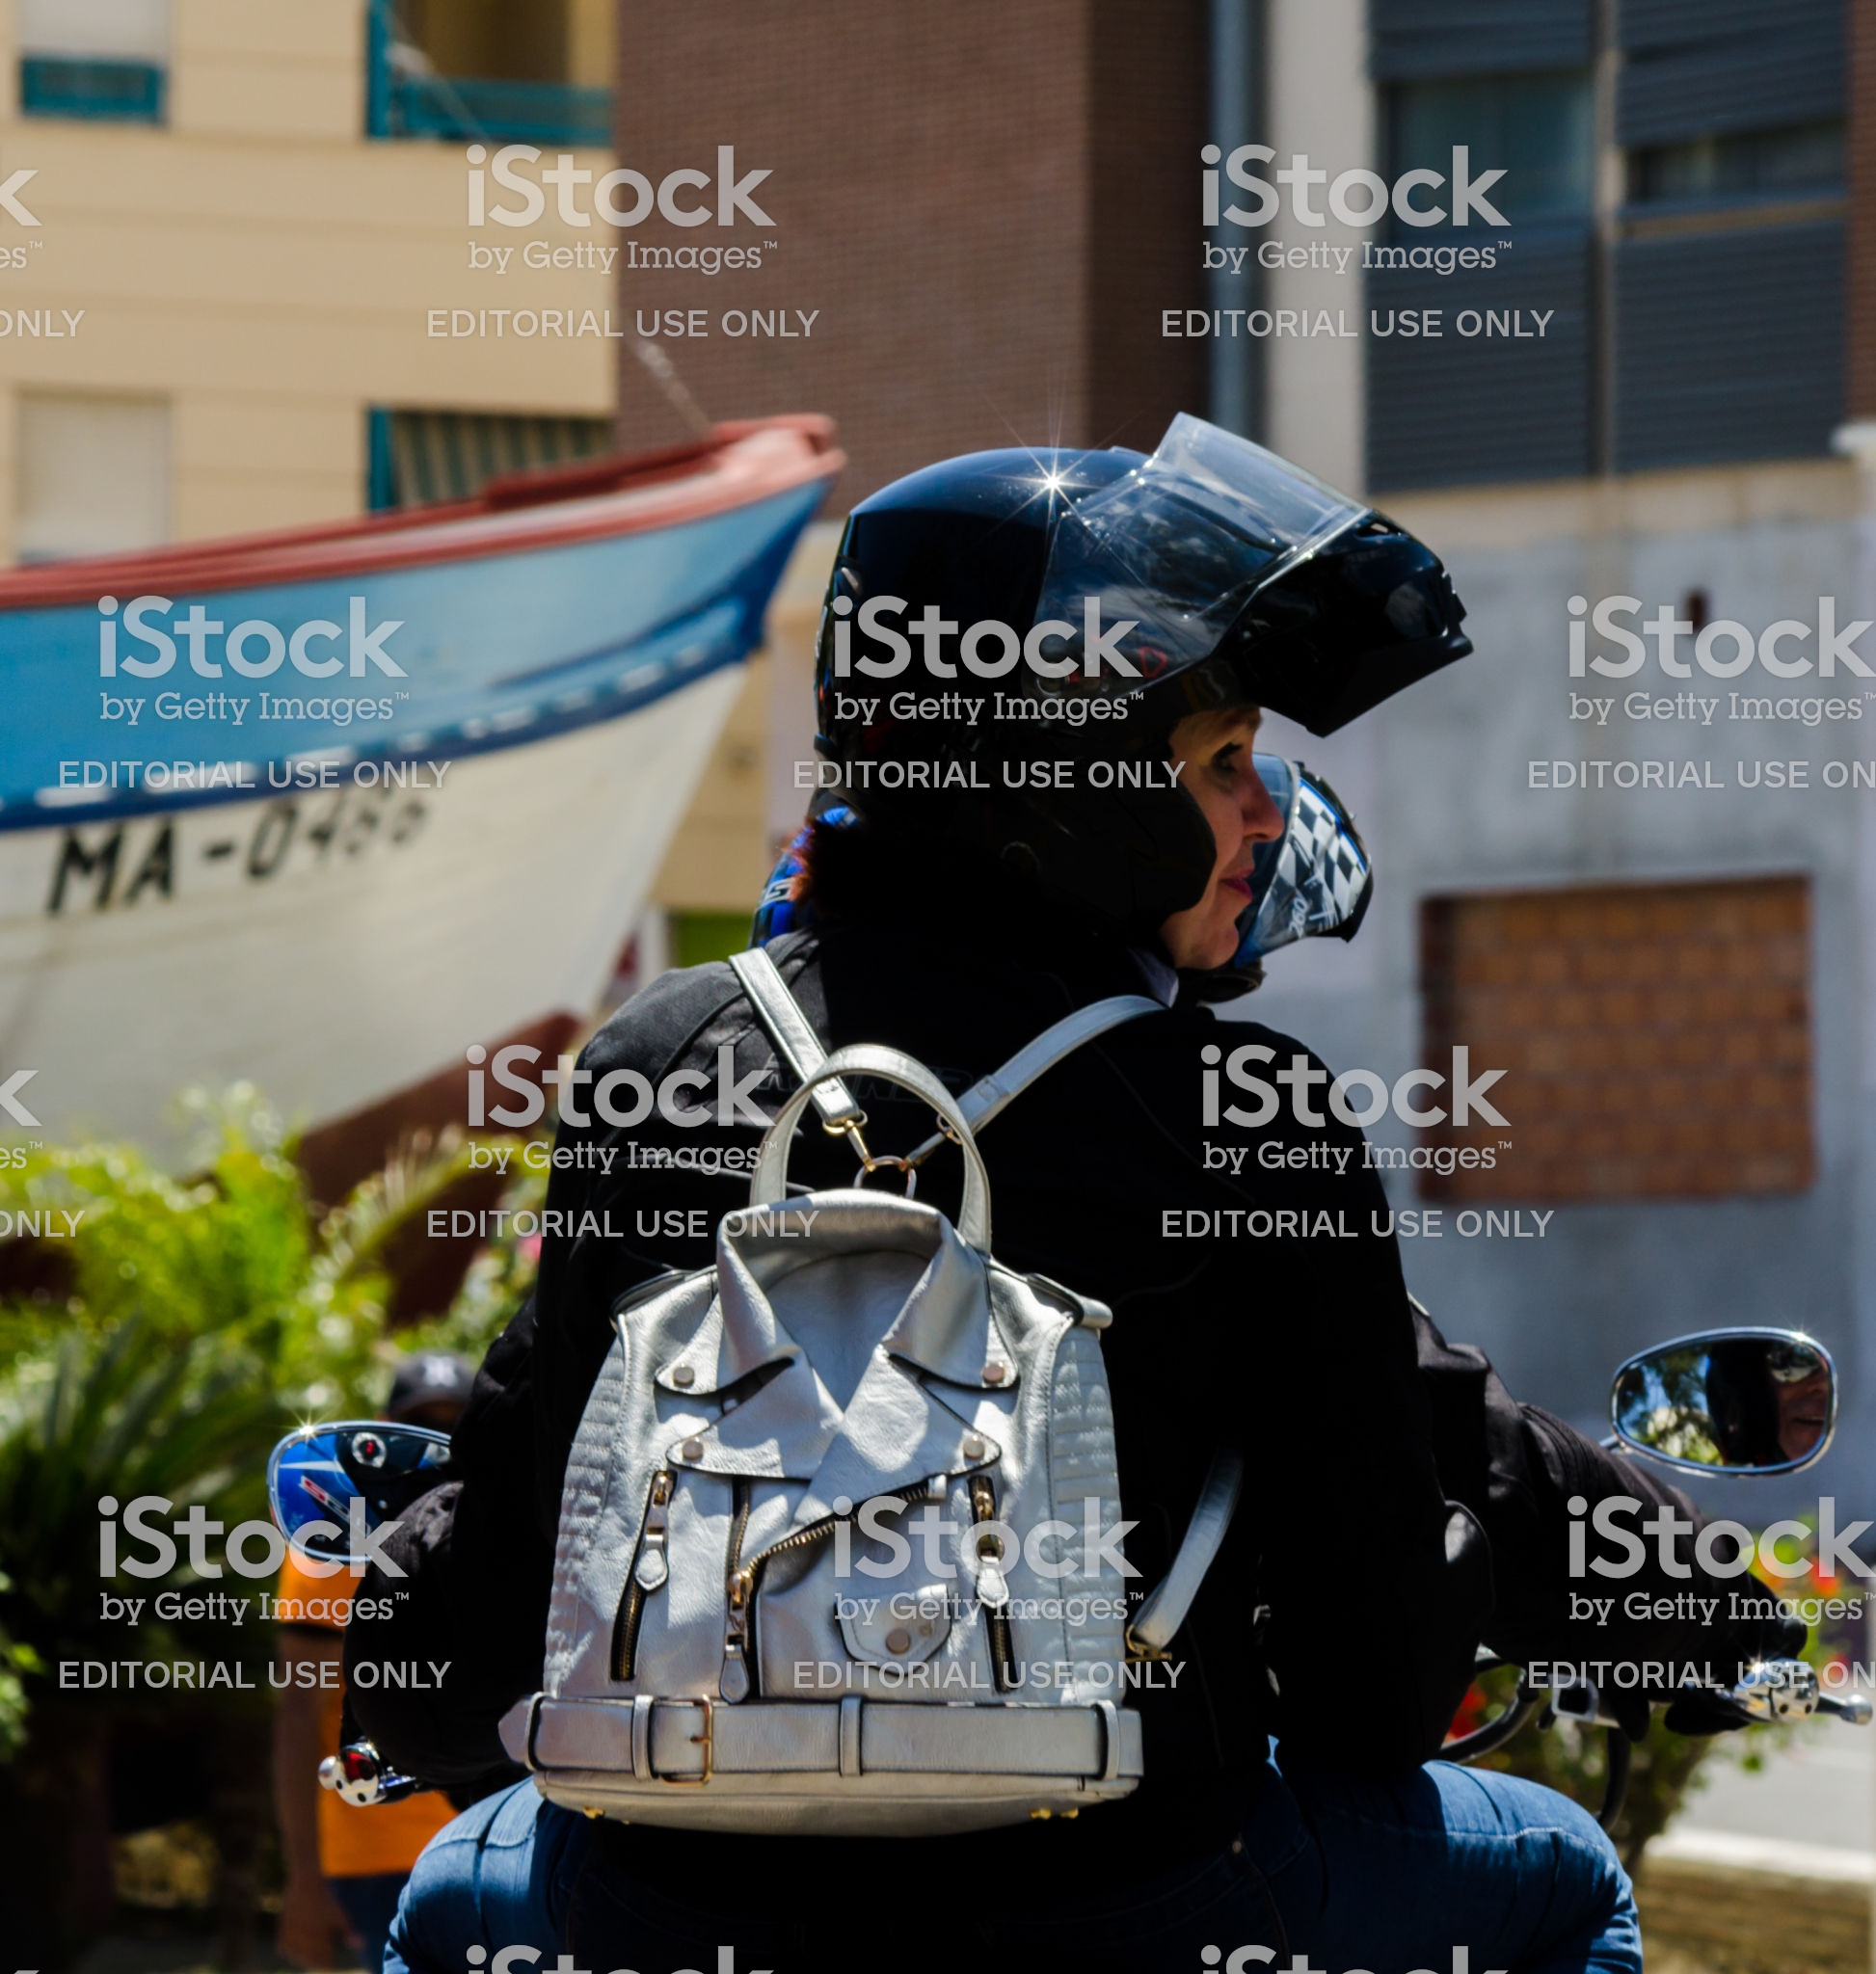helmet: (841, 412, 1478, 820)
